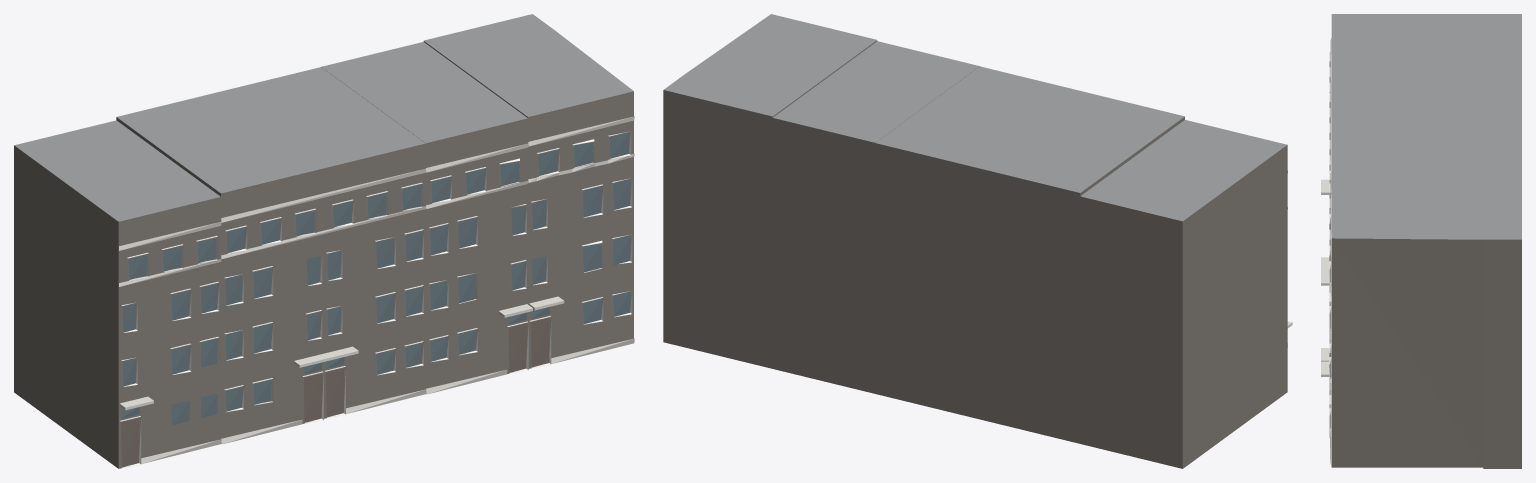
File: chunk-face-theron-9-37-r2.lod2.glb
3 renders of one model, left to right at view 1: azimuth 30°, elevation 25°; view 2: azimuth 150°, elevation 25°; view 3: azimuth 270°, elevation 25°, orthographic. The views are drawn at different scales.
Parts seen in each view (by area): view 1: lod2; view 2: lod2; view 3: lod2.
Boxes of the visible parts, <box> form: lod2: <box>14,14,634,468</box>; lod2: <box>663,14,1292,468</box>; lod2: <box>1321,14,1521,468</box>.
Bounding box in the file's own units: 30.5 × 14.16 × 11.25.
